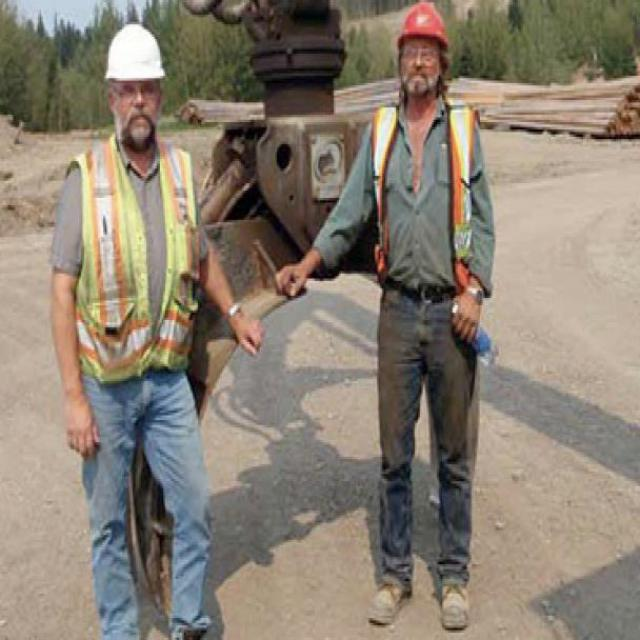helmet: (98, 12, 160, 159), (380, 0, 462, 96)
vest: (69, 149, 210, 386), (362, 98, 478, 320)
